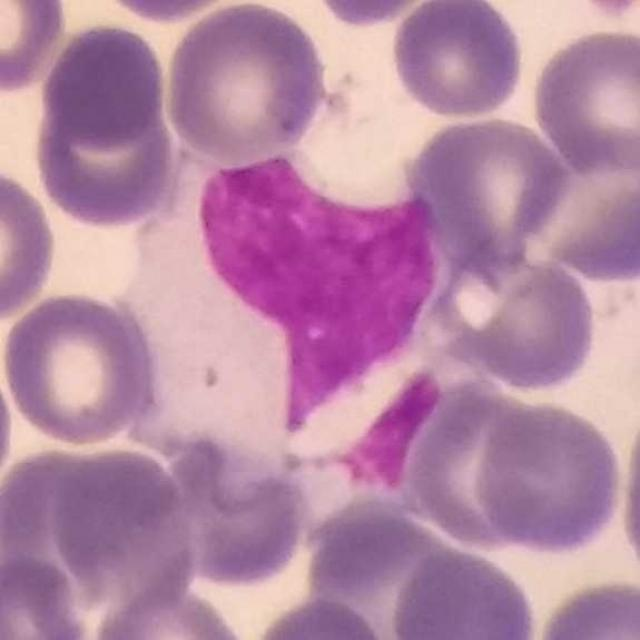Monocyte: (122, 148, 443, 490)
RBC: (275, 220, 446, 393), (161, 0, 332, 165), (403, 112, 573, 272), (400, 378, 554, 554), (0, 287, 164, 449), (470, 394, 629, 559), (430, 248, 602, 395), (160, 432, 314, 591), (2, 440, 137, 606), (45, 442, 194, 592), (299, 497, 466, 629), (30, 94, 184, 230), (526, 25, 640, 179), (37, 19, 171, 149), (387, 0, 528, 121), (527, 140, 640, 284), (386, 542, 542, 640), (0, 161, 61, 325), (88, 584, 254, 640), (0, 550, 92, 640), (531, 574, 640, 640), (0, 0, 71, 97), (249, 593, 395, 640), (308, 0, 448, 30), (94, 0, 248, 26), (0, 338, 17, 516), (567, 0, 640, 26)
